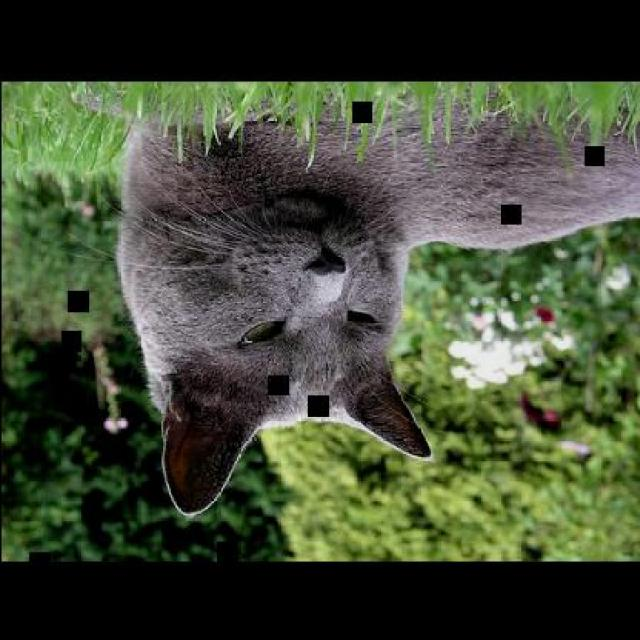unauthorized: (106, 95, 639, 517)
